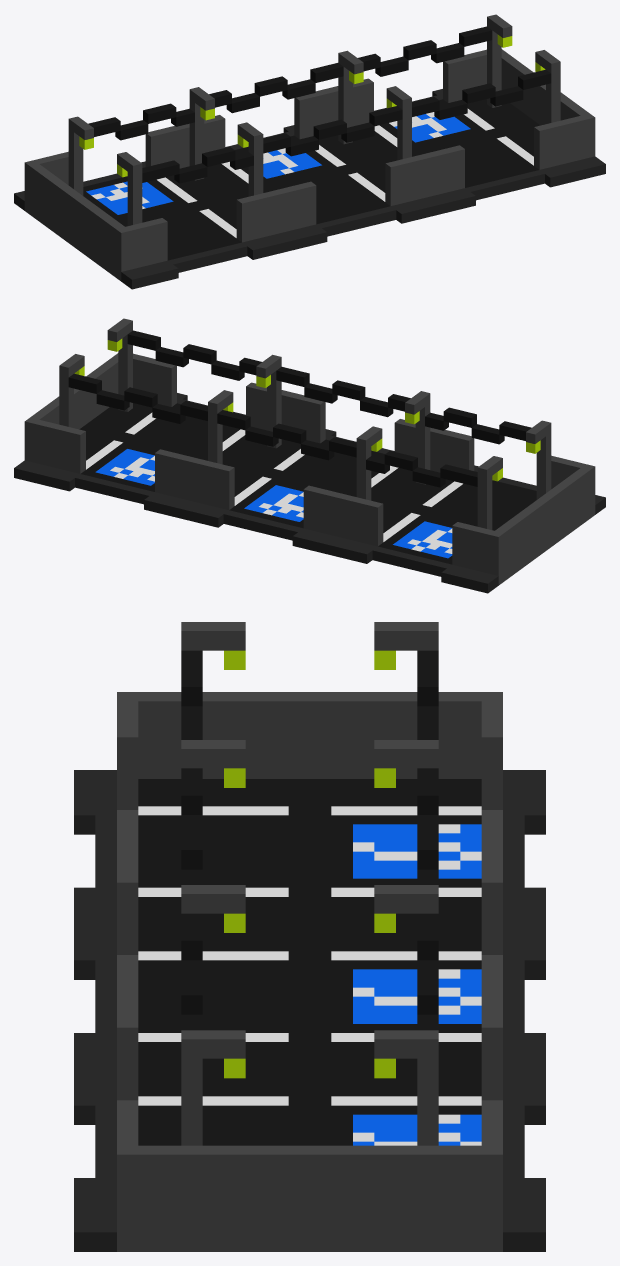
File: Parking.obj
3 views of the same model, one above another, from view 1: azimuth 30°, elevation 25°; view 2: azimuth 150°, elevation 25°; view 3: azimuth 270°, elevation 25° (orthographic). The views are drawn at different scales.
Bounding box in the file's own units: 5.1 × 1 × 2.2.
Materials: 1 (1 with a texture image).
